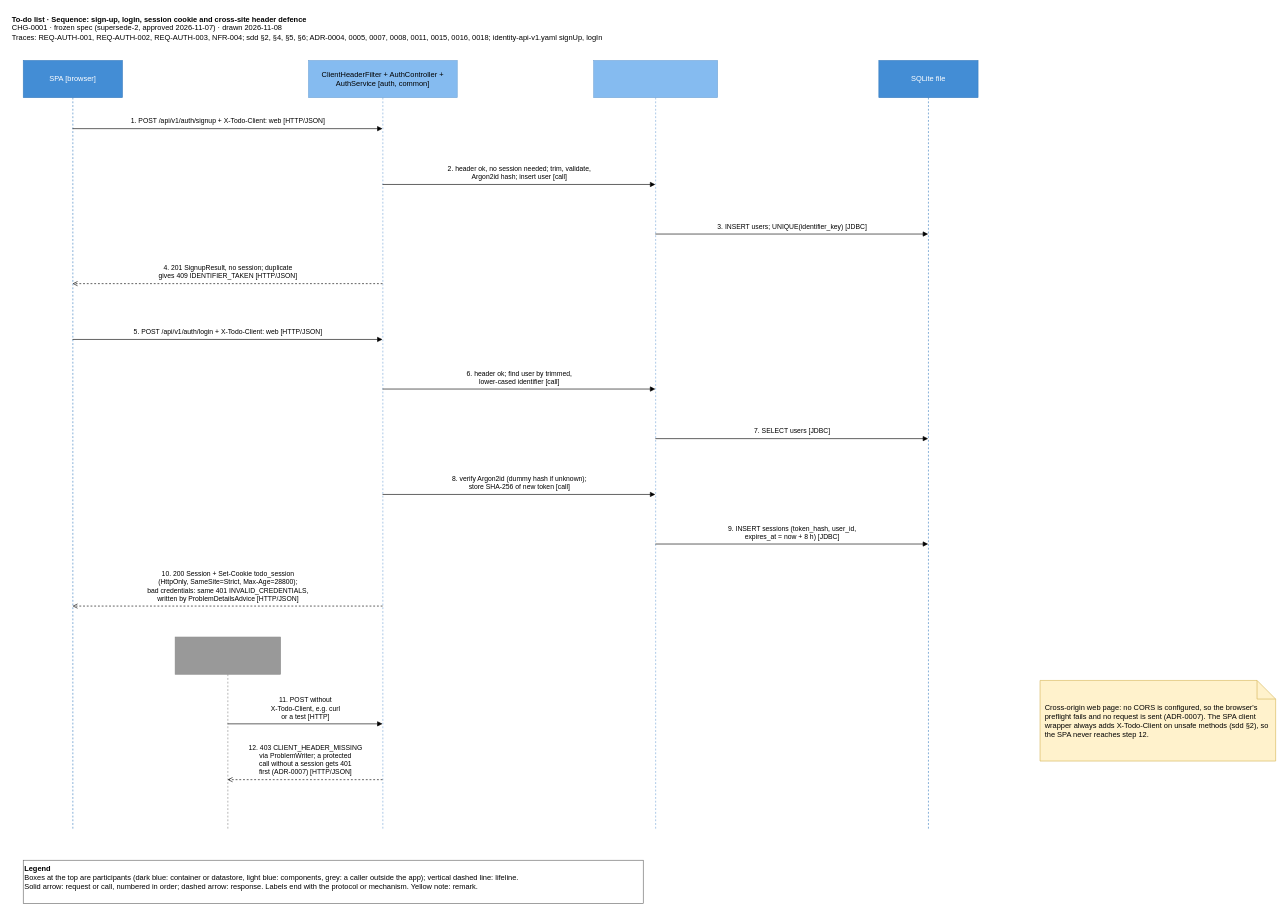
Some shapes in this 1287 by 915 pixel diagram are drawn without their labels. Here are the shapes that lost their labels. From the top down, the box of each, then its label:
(593, 60, 718, 829): UserRepository + SessionRepository [auth]
(175, 636, 281, 829): Direct API caller [curl, tests]
